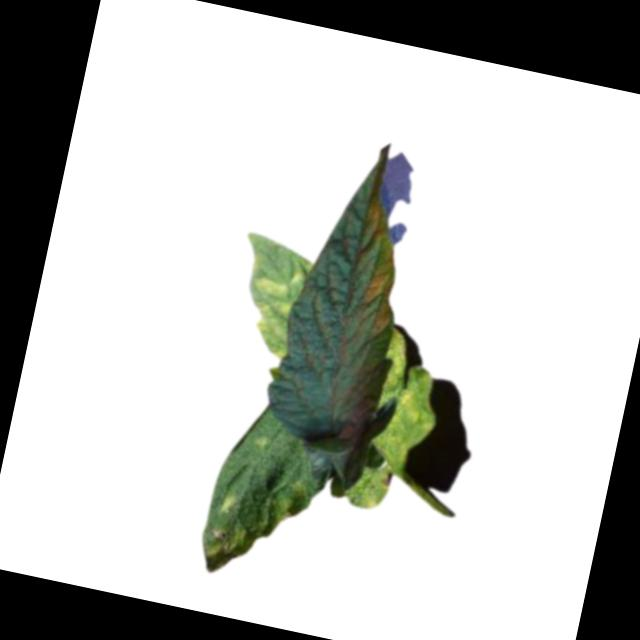Leaf_Mold: (193, 463, 302, 586), (361, 328, 450, 477), (235, 248, 309, 363), (353, 261, 401, 333), (354, 193, 392, 243)
